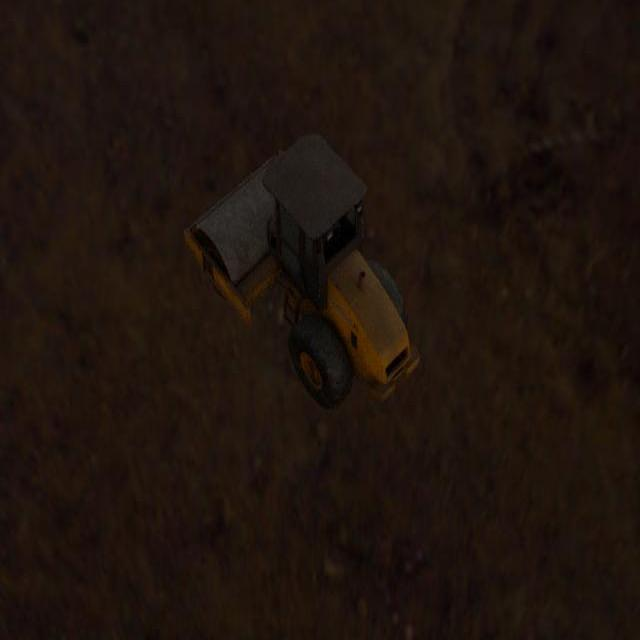Roller: (183, 133, 419, 410)
